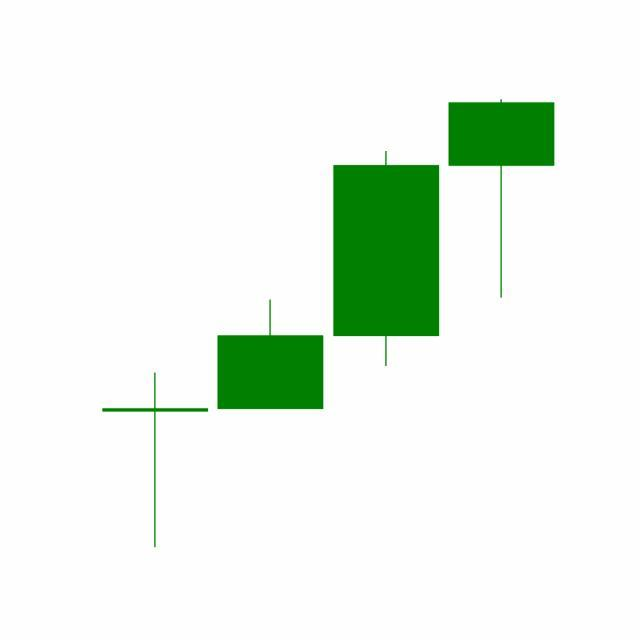Marubozu: (329, 148, 445, 369)
